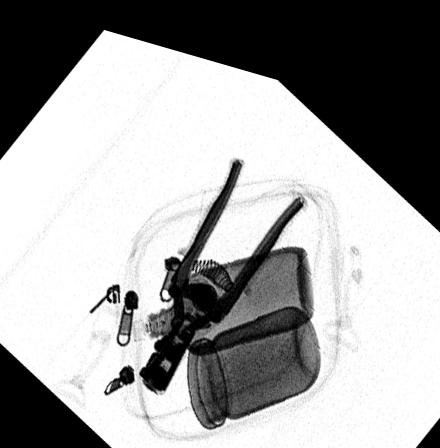Pliers: (136, 139, 306, 385)
